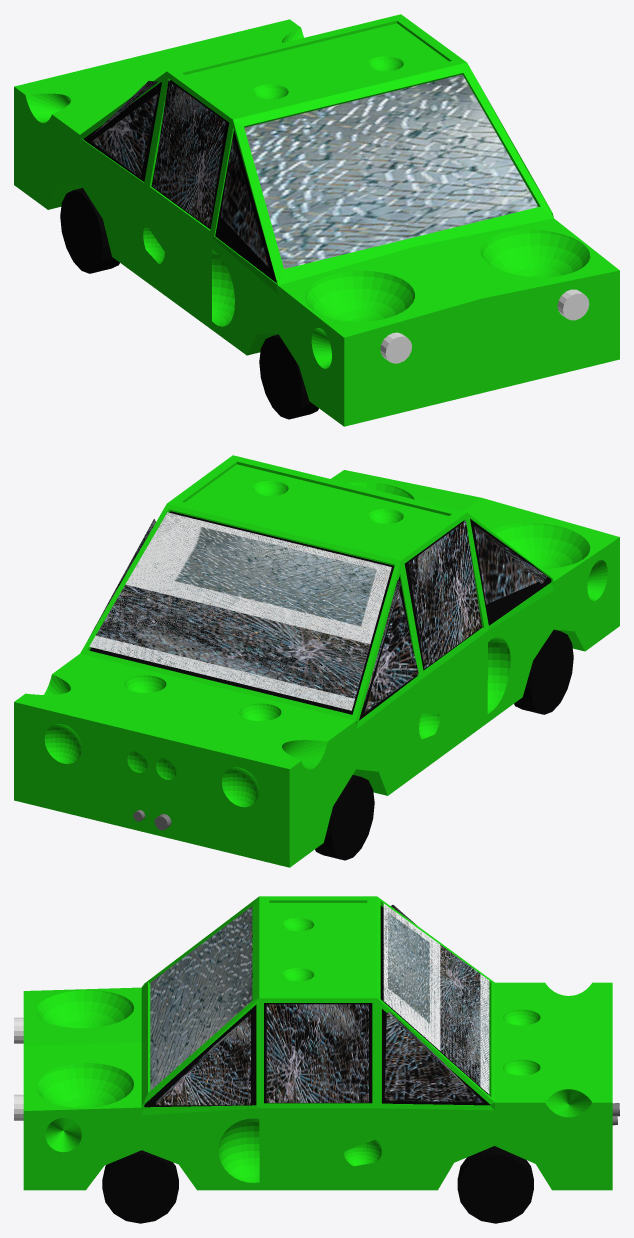
The model's file is CarGreenStage3.fbx.
The picture shows the model from 3 angles, top to bottom: view 1: azimuth 30°, elevation 25°; view 2: azimuth 150°, elevation 25°; view 3: azimuth 270°, elevation 25°; orthographic projection. The views are drawn at different scales.
Visible parts, largest first — view 1: Car, Vooruit kapot, wheels, Headlights; view 2: Car, Vooruit kapot, wheels; view 3: Car, Vooruit kapot, wheels, Headlights.
Part boxes in pixels (x1,y1,x2,y2): Car: (14, 14, 619, 426); Vooruit kapot: (90, 74, 538, 268); wheels: (60, 188, 318, 419); Headlights: (380, 289, 589, 363); Car: (14, 455, 619, 867); Vooruit kapot: (89, 512, 547, 712); wheels: (315, 629, 573, 860); Car: (23, 896, 612, 1190); Vooruit kapot: (150, 903, 489, 1105); wheels: (102, 1146, 533, 1223); Headlights: (14, 1017, 23, 1120).
Bounding box in the file's own units: 502 × 415 × 1049.
13 materials, 8 textured.
